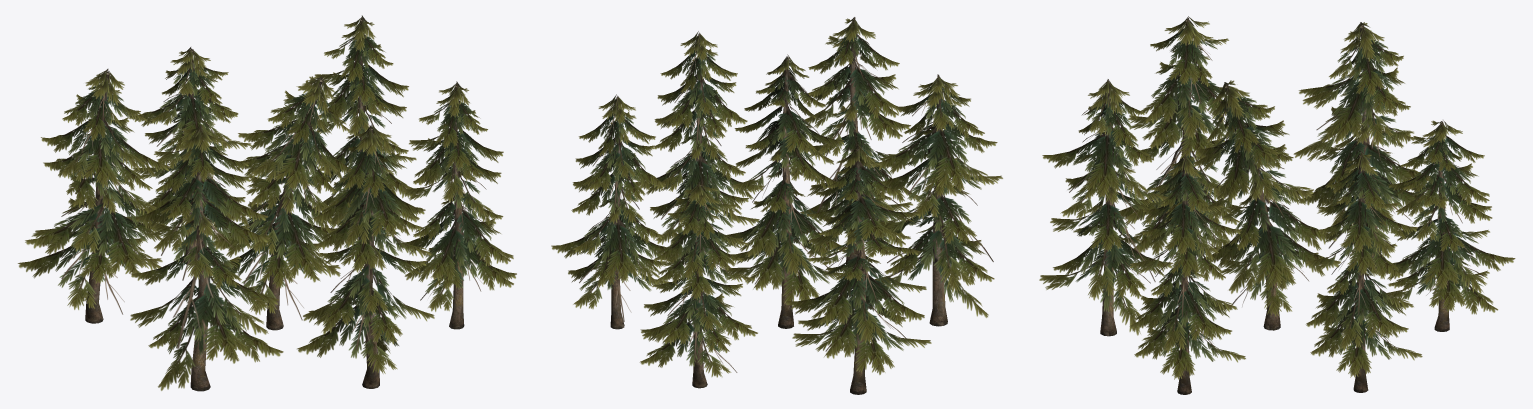
The model's file is tree_cluster_fir_1.glb.
3 renders of one model, left to right at view 1: azimuth 30°, elevation 25°; view 2: azimuth 150°, elevation 25°; view 3: azimuth 270°, elevation 25°, orthographic. The views are drawn at different scales.
Parts seen in each view (by area): view 1: Branches002_Branches_lp_0.001, Branches001_Branches_lp_0.001, Branches001_Branches_lp_0.002, Branches002_Branches_lp_0.003, Branches_Branches_lp_0.003, Branches_Branches_lp_0.002, Branches_Branches_lp_0.001, Tree_bark002_Tree_bark_0.001, Tree_bark_Tree_bark_0.003, Tree_bark001_Tree_bark_0.001, Tree_bark002_Tree_bark_0.003, Tree_bark001_Tree_bark_0.002; view 2: Branches001_Branches_lp_0.001, Branches002_Branches_lp_0.001, Branches001_Branches_lp_0.002, Branches_Branches_lp_0.001, Branches_Branches_lp_0.002, Branches_Branches_lp_0.003, Branches002_Branches_lp_0.003, Tree_bark002_Tree_bark_0.001, Tree_bark001_Tree_bark_0.002, Tree_bark001_Tree_bark_0.001, Tree_bark_Tree_bark_0.002, Tree_bark_Tree_bark_0.001 (+1 smaller); view 3: Branches001_Branches_lp_0.002, Branches002_Branches_lp_0.003, Branches_Branches_lp_0.002, Branches_Branches_lp_0.003, Branches001_Branches_lp_0.001, Branches_Branches_lp_0.001, Branches002_Branches_lp_0.001, Tree_bark002_Tree_bark_0.003, Tree_bark001_Tree_bark_0.002, Tree_bark_Tree_bark_0.003, Tree_bark_Tree_bark_0.002, Tree_bark_Tree_bark_0.001.
Boxes of the visible parts, left/top/right/bottom form: Branches002_Branches_lp_0.001: left=130, top=124, right=283, bottom=390; Branches001_Branches_lp_0.001: left=18, top=69, right=171, bottom=314; Branches001_Branches_lp_0.002: left=207, top=76, right=352, bottom=320; Branches002_Branches_lp_0.003: left=297, top=124, right=434, bottom=373; Branches_Branches_lp_0.003: left=402, top=81, right=516, bottom=311; Branches_Branches_lp_0.002: left=307, top=15, right=422, bottom=245; Branches_Branches_lp_0.001: left=126, top=47, right=251, bottom=255; Tree_bark002_Tree_bark_0.001: left=190, top=130, right=210, bottom=391; Tree_bark_Tree_bark_0.003: left=449, top=86, right=464, bottom=329; Tree_bark001_Tree_bark_0.001: left=85, top=73, right=109, bottom=323; Tree_bark002_Tree_bark_0.003: left=362, top=128, right=379, bottom=388; Tree_bark001_Tree_bark_0.002: left=266, top=80, right=322, bottom=330; Branches001_Branches_lp_0.001: left=786, top=144, right=931, bottom=374; Branches002_Branches_lp_0.001: left=871, top=74, right=1002, bottom=317; Branches001_Branches_lp_0.002: left=722, top=54, right=848, bottom=303; Branches_Branches_lp_0.001: left=639, top=181, right=757, bottom=377; Branches_Branches_lp_0.002: left=551, top=94, right=677, bottom=321; Branches_Branches_lp_0.003: left=635, top=31, right=764, bottom=254; Branches002_Branches_lp_0.003: left=799, top=17, right=921, bottom=257; Tree_bark002_Tree_bark_0.001: left=929, top=79, right=947, bottom=326; Tree_bark001_Tree_bark_0.002: left=778, top=60, right=793, bottom=328; Tree_bark001_Tree_bark_0.001: left=850, top=149, right=866, bottom=394; Tree_bark_Tree_bark_0.002: left=610, top=98, right=624, bottom=329; Tree_bark_Tree_bark_0.001: left=692, top=185, right=707, bottom=388; Branches001_Branches_lp_0.002: left=1193, top=80, right=1340, bottom=316; Branches002_Branches_lp_0.003: left=1039, top=79, right=1172, bottom=335; Branches_Branches_lp_0.002: left=1305, top=151, right=1422, bottom=377; Branches_Branches_lp_0.003: left=1129, top=154, right=1245, bottom=379; Branches001_Branches_lp_0.001: left=1293, top=22, right=1434, bottom=256; Branches_Branches_lp_0.001: left=1373, top=120, right=1515, bottom=314; Branches002_Branches_lp_0.001: left=1115, top=16, right=1245, bottom=255; Tree_bark002_Tree_bark_0.003: left=1100, top=86, right=1116, bottom=336; Tree_bark001_Tree_bark_0.002: left=1225, top=86, right=1280, bottom=330; Tree_bark_Tree_bark_0.003: left=1177, top=158, right=1191, bottom=394; Tree_bark_Tree_bark_0.002: left=1353, top=155, right=1368, bottom=392; Tree_bark_Tree_bark_0.001: left=1434, top=123, right=1449, bottom=331.
Bounding box in the file's own units: 1.7 × 1.09 × 1.85.
Materials: 2 (2 with a texture image).
